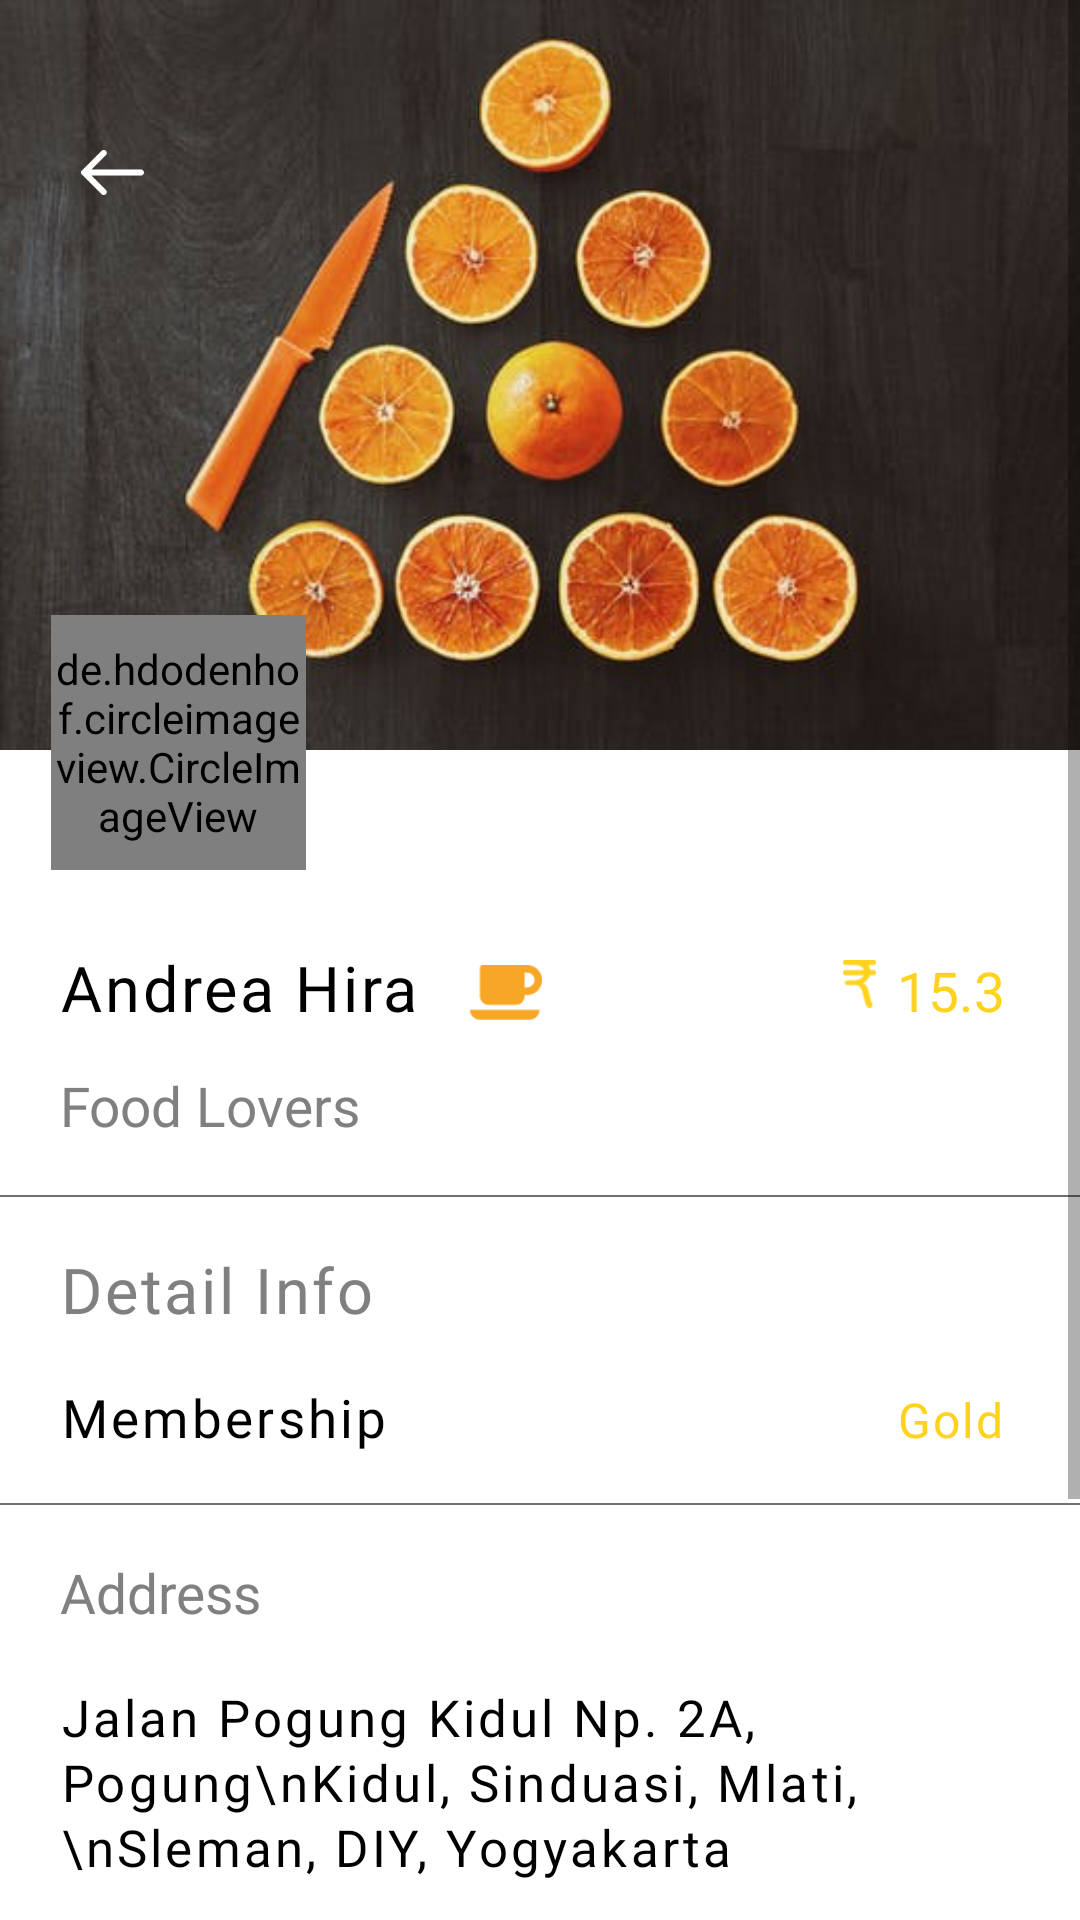

Named icons in this screenshot (1080w x 1920h) and their bounding boxes, (x1, y1, x2, y2):
arrow: (63, 150, 144, 195)
coffee cup: (470, 965, 542, 1020)
india rupee: (843, 960, 876, 1008)
